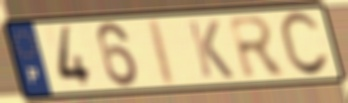4: (55, 23, 96, 92)
6: (95, 21, 140, 89)
C: (277, 9, 332, 80)
I: (147, 16, 179, 89)
K: (185, 19, 237, 80)
R: (225, 14, 290, 81)
